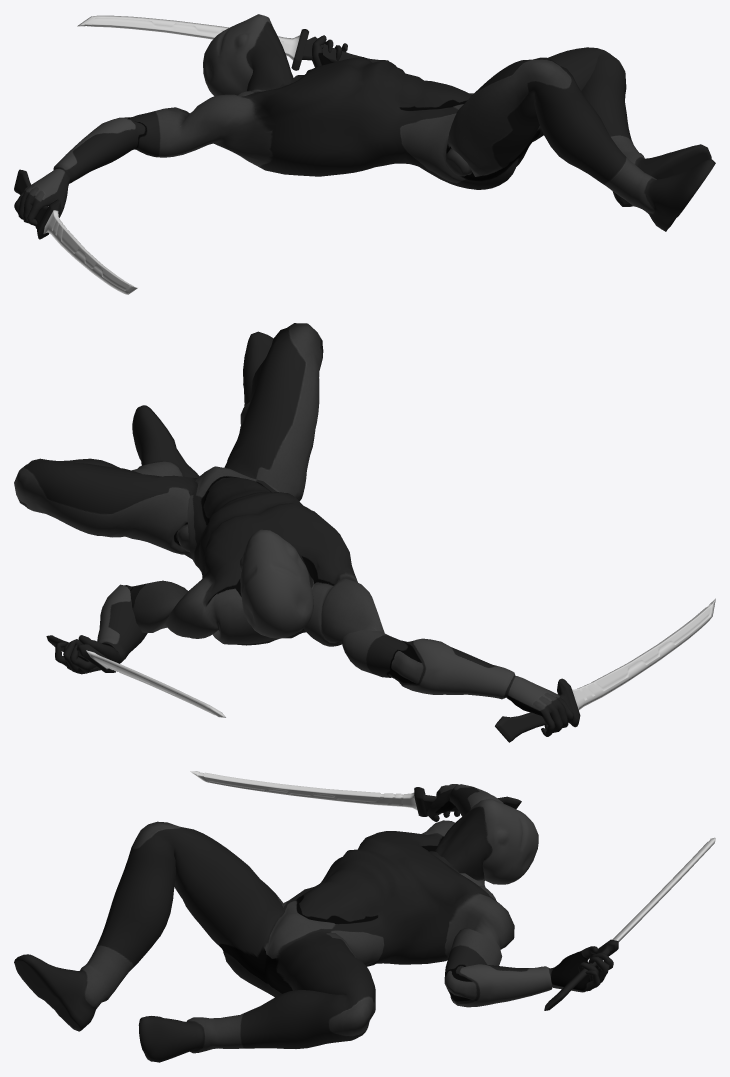
3 views of the same model, one above another, from view 1: azimuth 30°, elevation 25°; view 2: azimuth 150°, elevation 25°; view 3: azimuth 270°, elevation 25° (orthographic). The views are drawn at different scales.
Visible parts, largest first — view 1: Cyborg_Ninja_Killer, Sword_l, Sword_l001; view 2: Cyborg_Ninja_Killer, Sword_l001, Sword_l; view 3: Cyborg_Ninja_Killer, Sword_l001, Sword_l.
Boxes of the visible parts, bbox=[...] form: Cyborg_Ninja_Killer: bbox=[14, 14, 715, 231]; Sword_l: bbox=[77, 15, 389, 70]; Sword_l001: bbox=[14, 169, 137, 294]; Cyborg_Ninja_Killer: bbox=[14, 323, 573, 736]; Sword_l001: bbox=[495, 598, 715, 742]; Sword_l: bbox=[46, 635, 225, 717]; Cyborg_Ninja_Killer: bbox=[14, 784, 613, 1062]; Sword_l001: bbox=[190, 771, 521, 816]; Sword_l: bbox=[544, 837, 715, 1010].
Bounding box in the file's own units: 180 × 53.94 × 187.
Materials: 2 (2 with a texture image).
